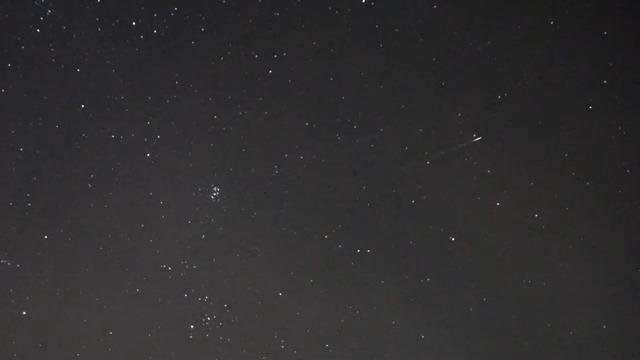meteorite: (431, 131, 502, 151)
